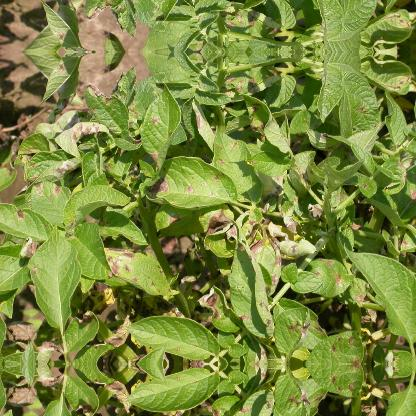Late-Blight: (7, 66, 413, 356)
